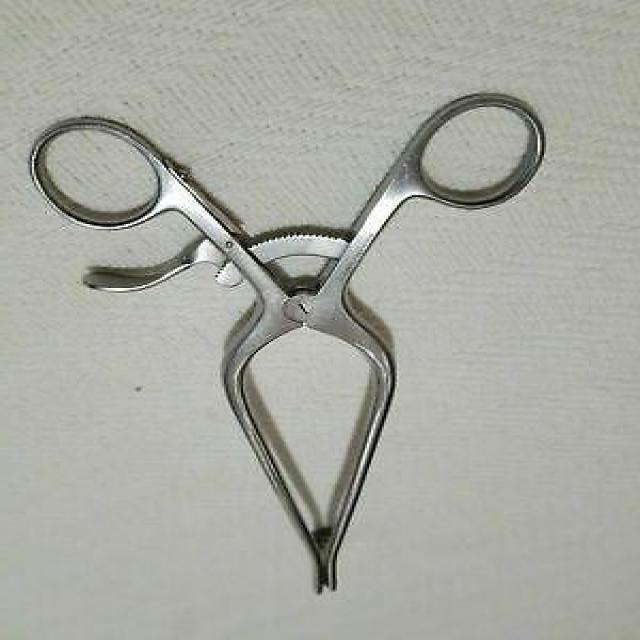Weitlaner: (22, 90, 550, 598)
